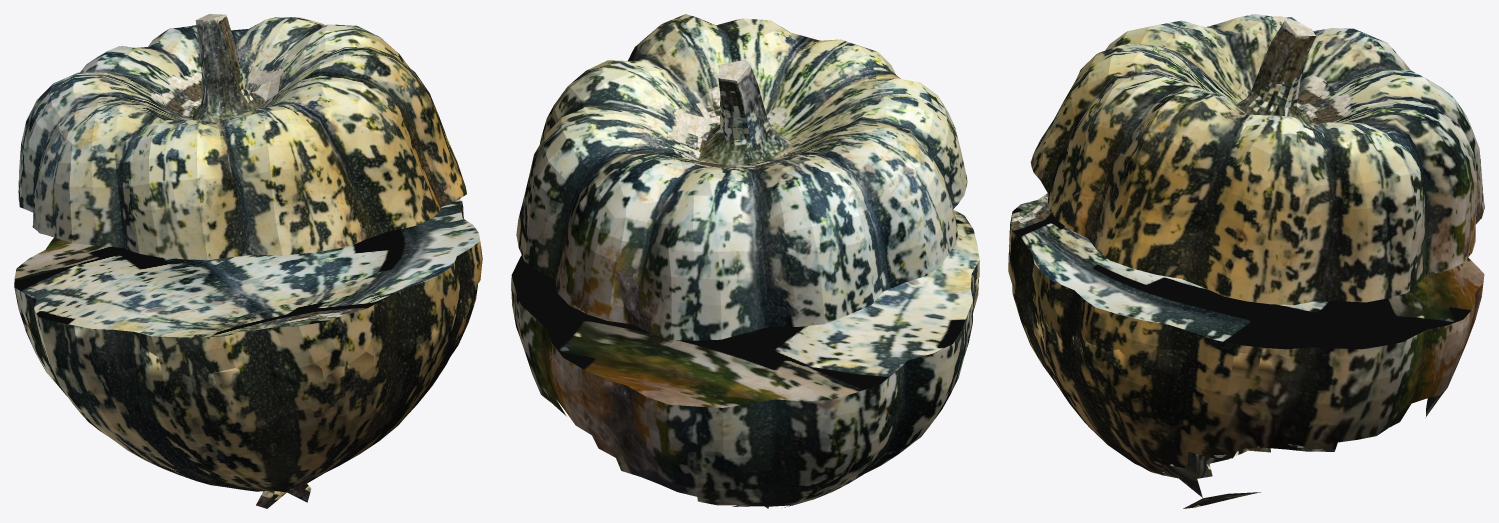
File: Pumpkin_split.glb
The picture shows the model from 3 angles, left to right: view 1: azimuth 30°, elevation 25°; view 2: azimuth 150°, elevation 25°; view 3: azimuth 270°, elevation 25°; orthographic projection. The views are drawn at different scales.
Parts seen in each view (by area): view 1: Spotty_squash_RETOP, Spotty_squash_RETOP.001; view 2: Spotty_squash_RETOP.001, Spotty_squash_RETOP; view 3: Spotty_squash_RETOP.001, Spotty_squash_RETOP.
Boxes of the visible parts, box(x1,y1,x2,y2) form: Spotty_squash_RETOP: box(14, 199, 482, 508); Spotty_squash_RETOP.001: box(18, 14, 466, 260); Spotty_squash_RETOP.001: box(516, 14, 967, 340); Spotty_squash_RETOP: box(511, 209, 979, 508); Spotty_squash_RETOP.001: box(1030, 14, 1484, 305); Spotty_squash_RETOP: box(1008, 193, 1484, 508).
Bounding box in the file's own units: 3.55 × 3.87 × 3.53.
1 material, 1 textured.
